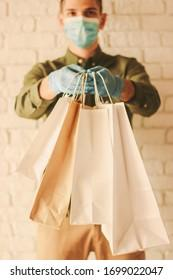gloves: (86, 66, 123, 98), (49, 65, 90, 93)
